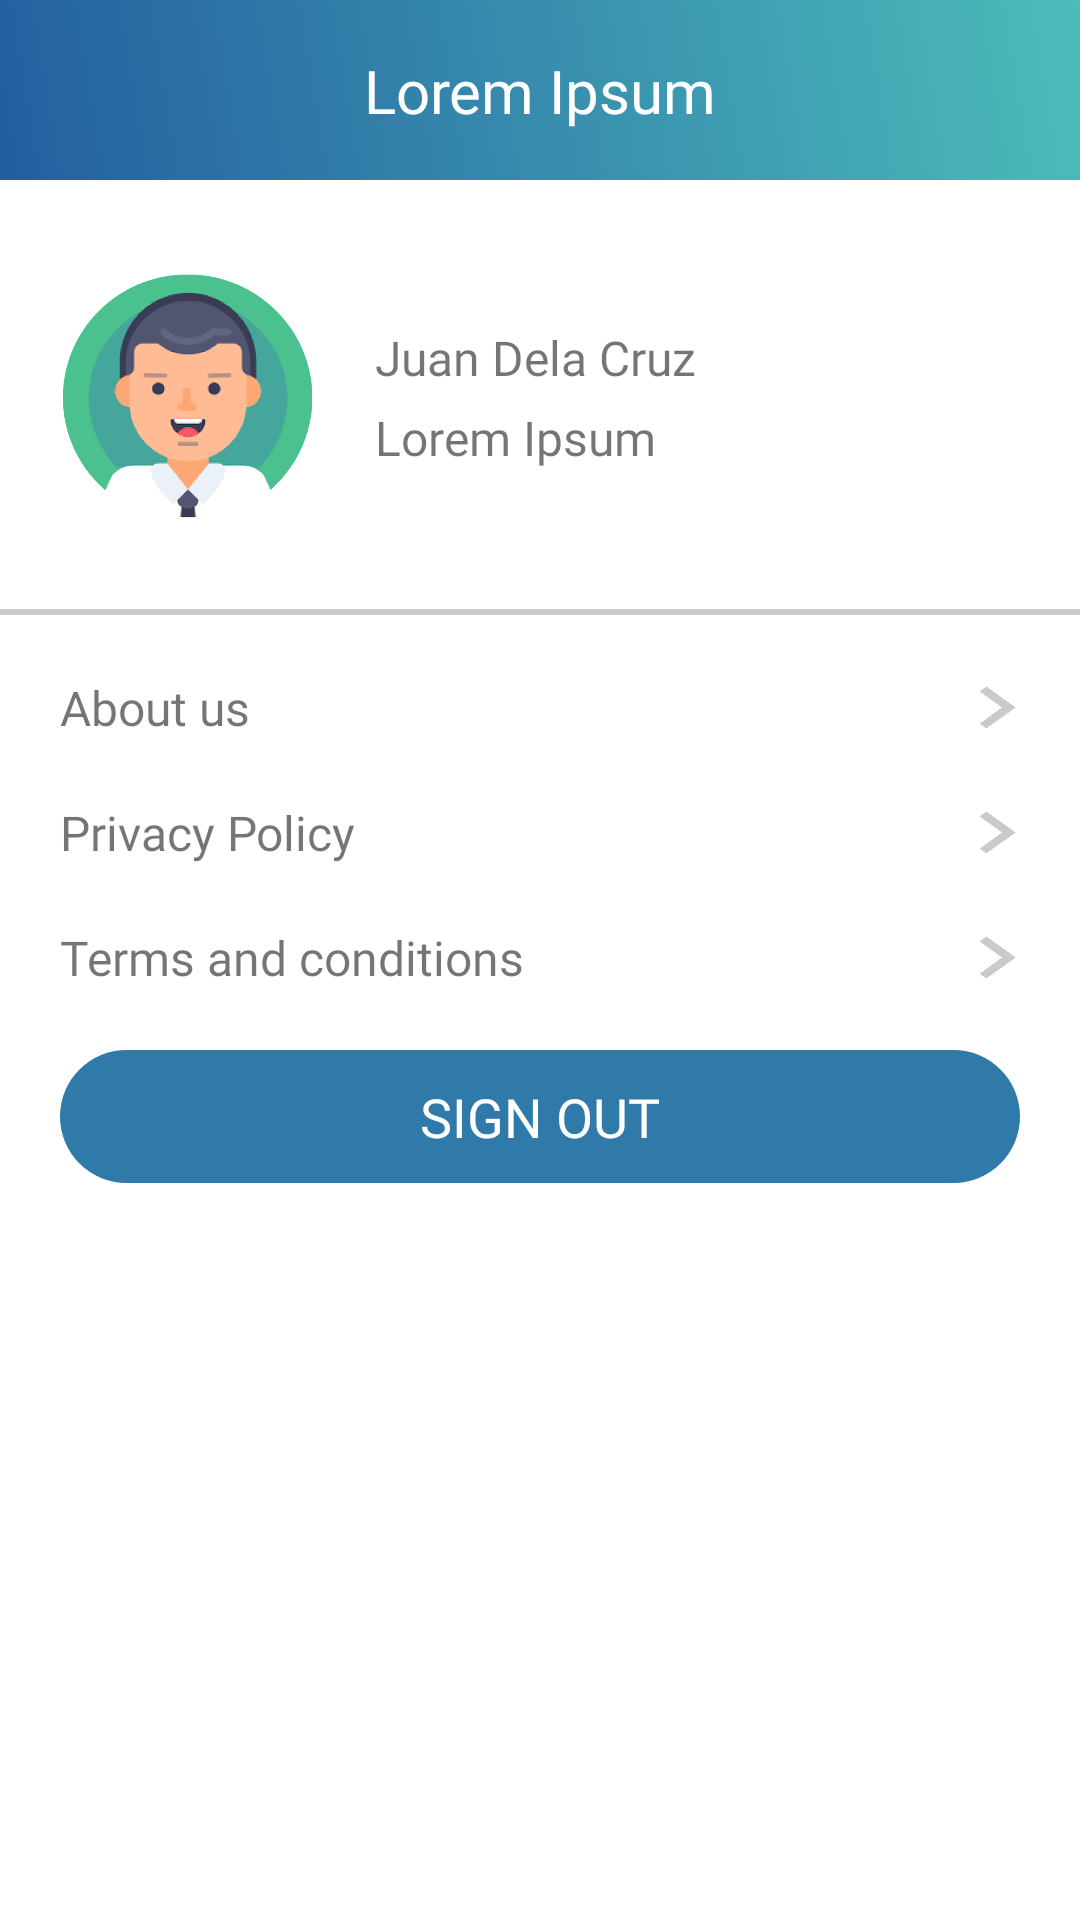

Where icons sit on this 1080px x 1920px app screen, as [x1, y1, x2, y2]:
arrow: [980, 687, 1016, 728], [980, 812, 1016, 853], [980, 937, 1016, 978]
user: [63, 274, 312, 517]
